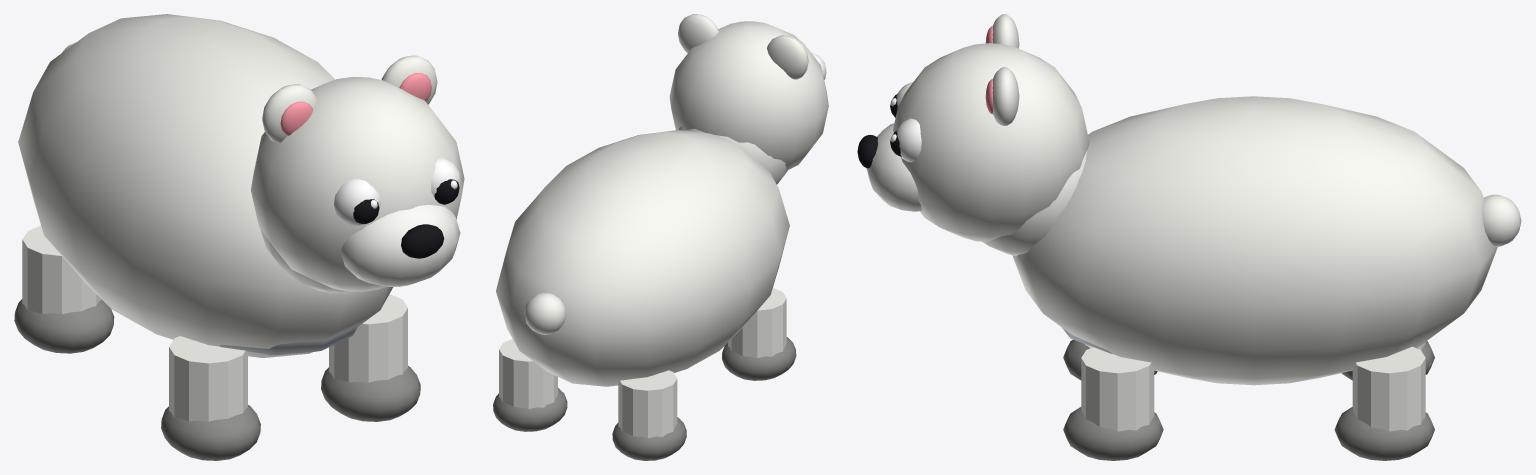
3 renders of one model, left to right at view 1: azimuth 30°, elevation 25°; view 2: azimuth 150°, elevation 25°; view 3: azimuth 270°, elevation 25°, orthographic. The views are drawn at different scales.
Visible parts, largest first — view 1: Polar Bear; view 2: Polar Bear; view 3: Polar Bear.
Part boxes in pixels (x1,y1,x2,y2): Polar Bear: (14, 14, 464, 460); Polar Bear: (493, 14, 828, 460); Polar Bear: (857, 14, 1521, 460).
Size of the model in its own units: 2.12 by 2.83 by 4.54.
Materials: 1 (1 with a texture image).
